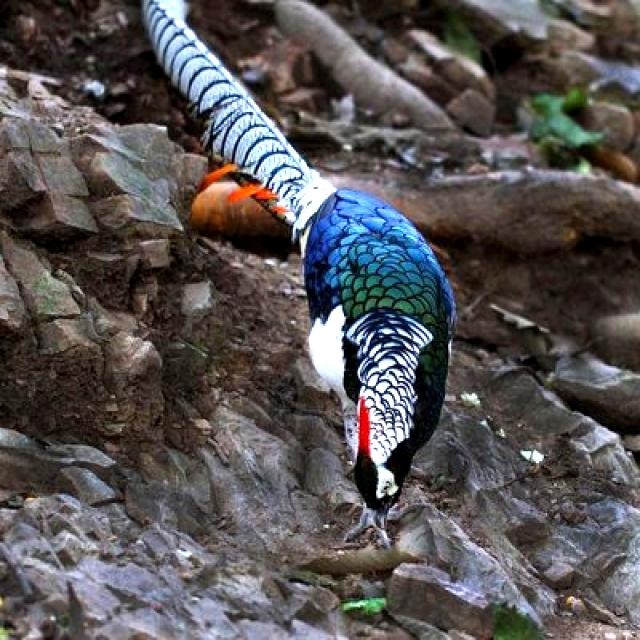Chrysolophus amherstiae: (142, 0, 312, 212)
